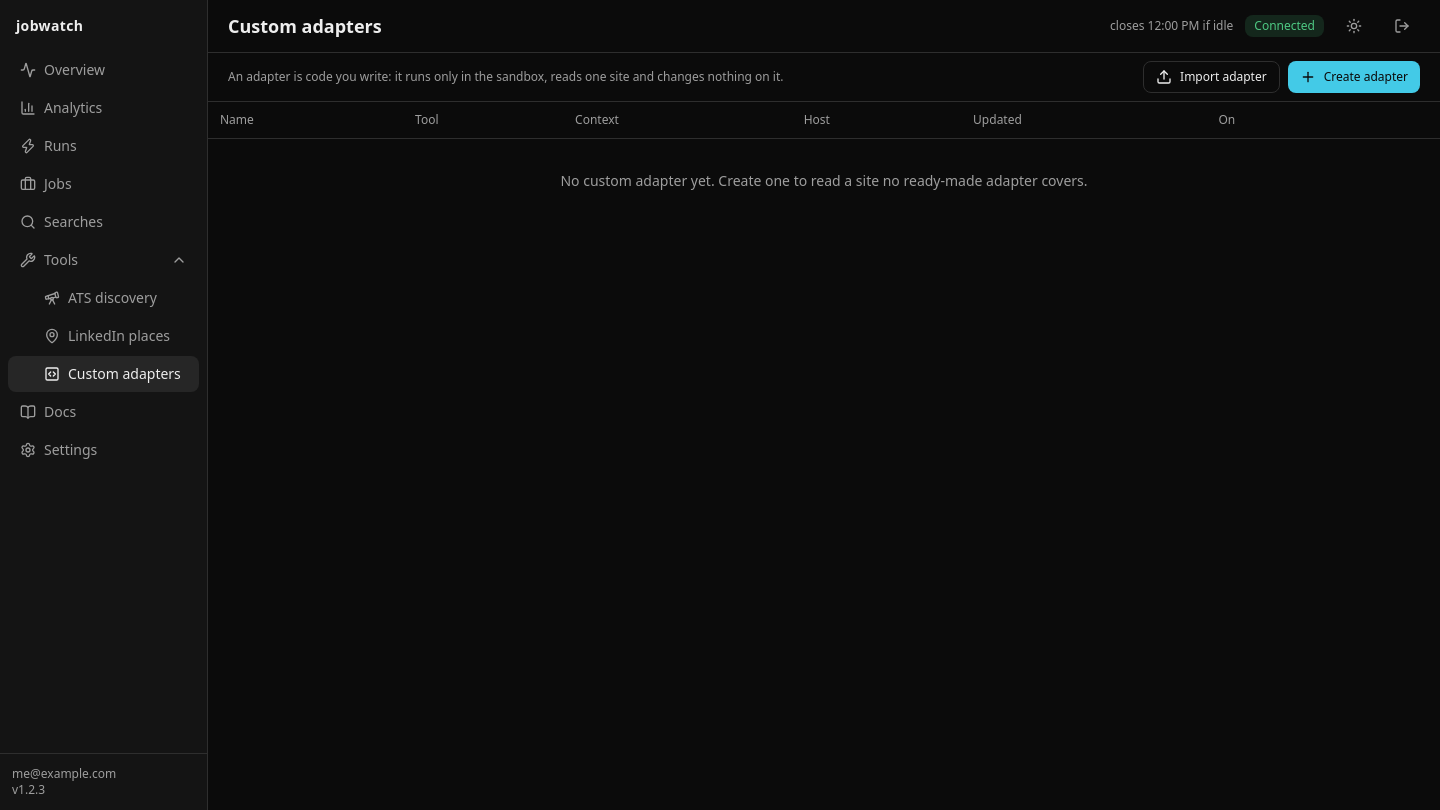
Test: custom adapters page › shows one table for each object or type, with a row for each attribute, and the browser context adds the session
Click the button "Create adapter" at point(1354, 77), box [1288, 61, 1420, 93]
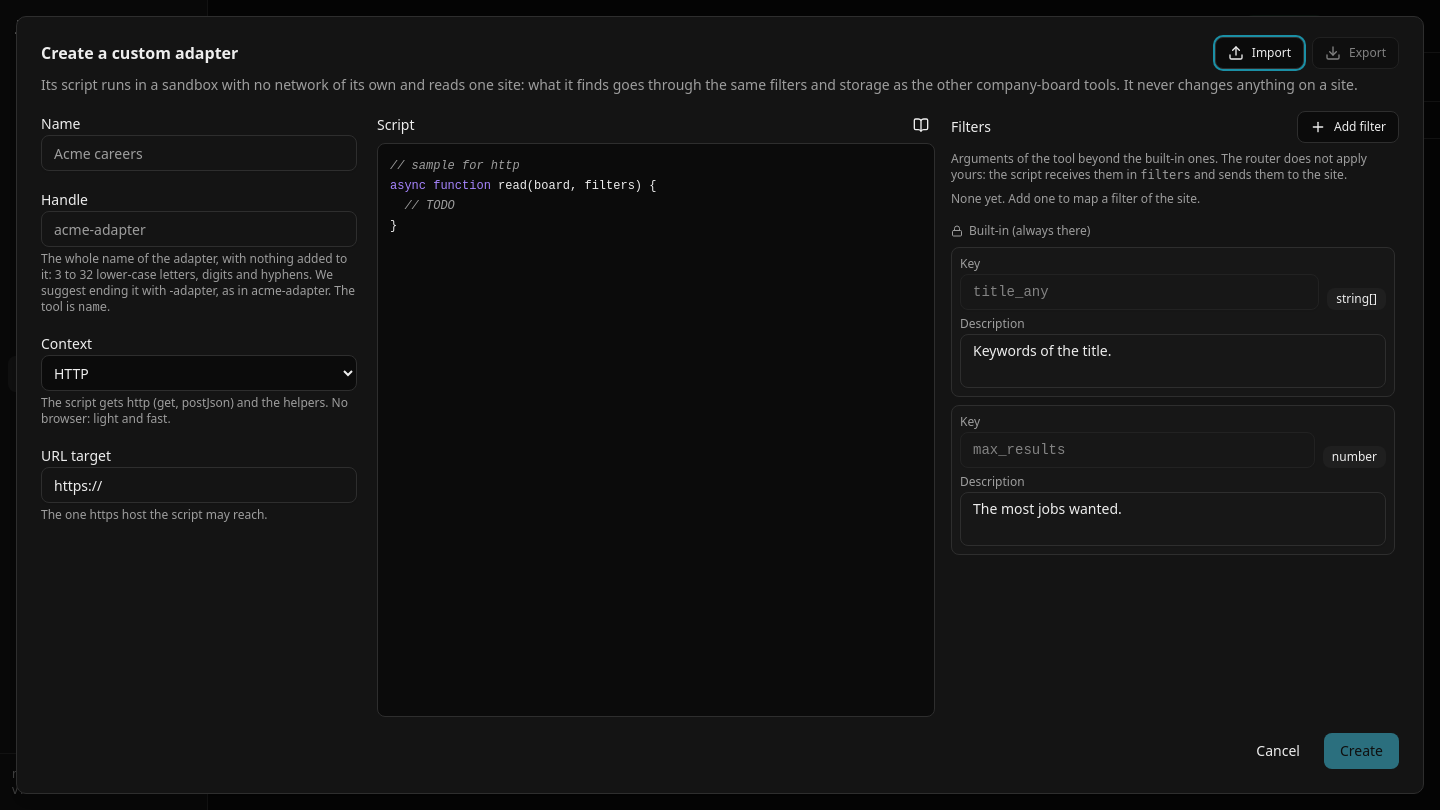
Click the button named "Show the documentation" at point(921, 125), box [907, 111, 935, 139]
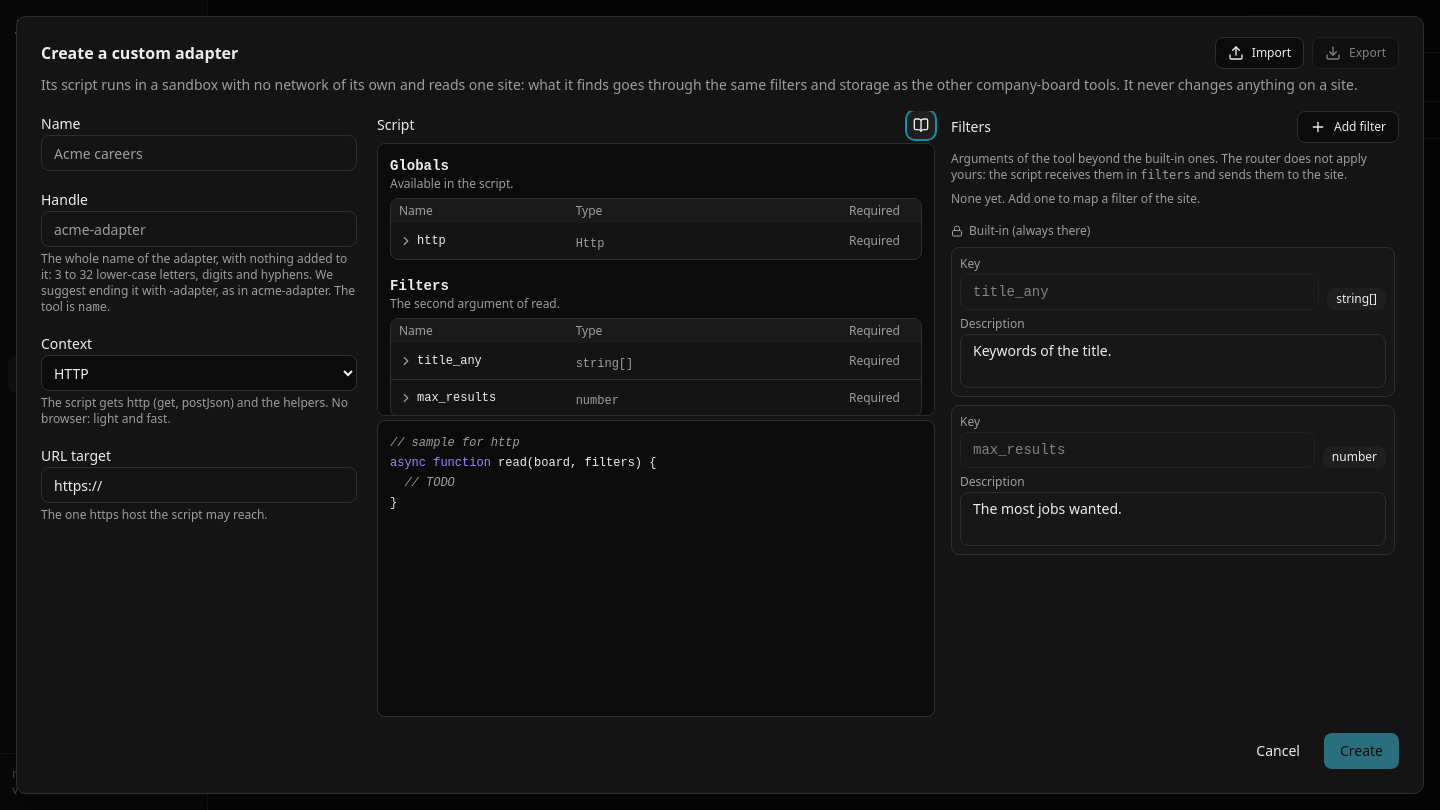
Check: the text "session" is not shown
Select "Browser" in the dropdown labelled "Context" at point(199, 373), box [41, 355, 357, 391]
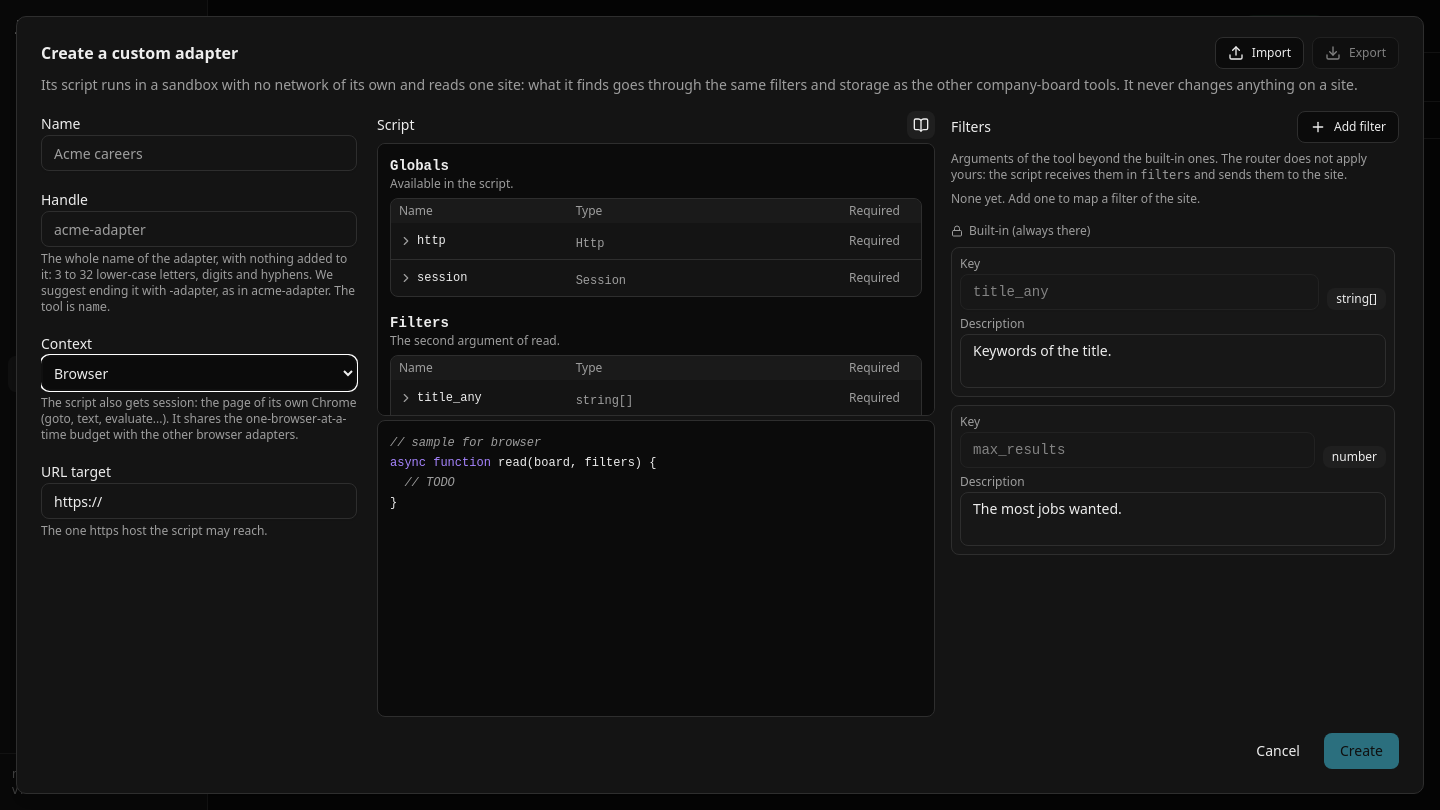
Check: the text "session" is shown, box [417, 270, 467, 286]
